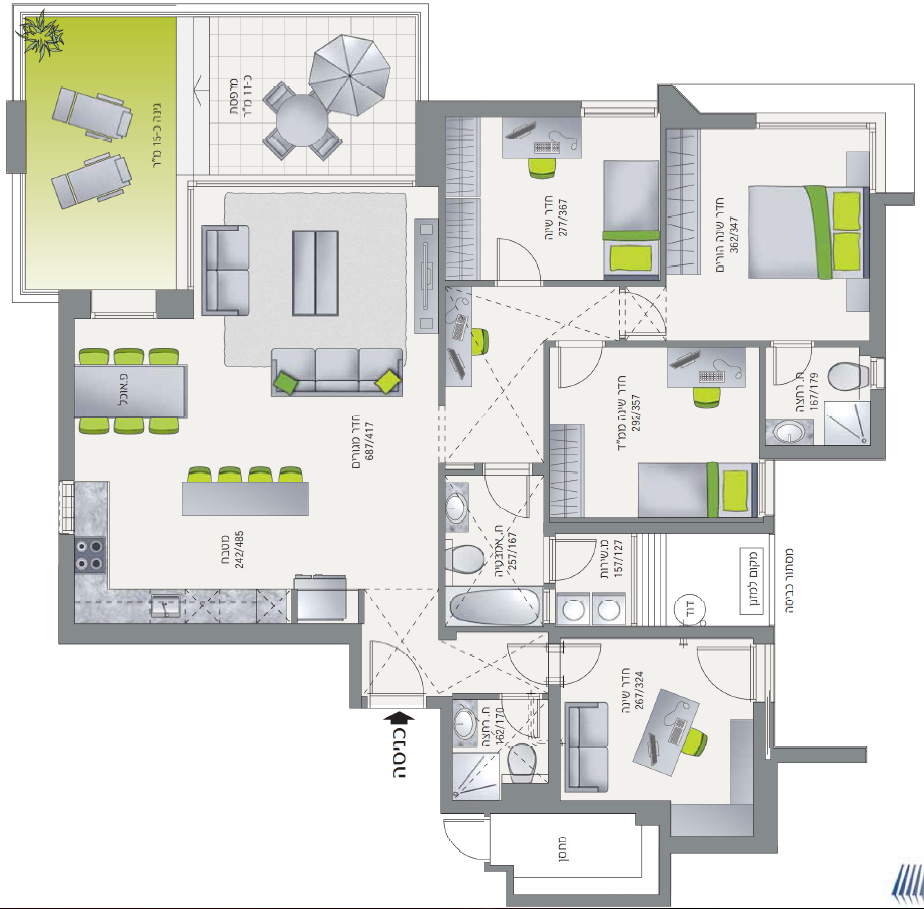door: (365, 636, 428, 690), (476, 476, 539, 530), (693, 640, 748, 701), (562, 637, 609, 691), (499, 637, 546, 691), (552, 348, 608, 393), (491, 232, 547, 277), (556, 535, 603, 583), (441, 814, 485, 865), (768, 349, 815, 389)
wall: (58, 623, 361, 645), (58, 288, 75, 481), (415, 102, 582, 116), (870, 194, 884, 354), (415, 117, 444, 186)
window: (90, 289, 158, 318), (582, 101, 656, 116), (758, 457, 774, 517), (59, 481, 72, 533), (868, 357, 885, 389)
